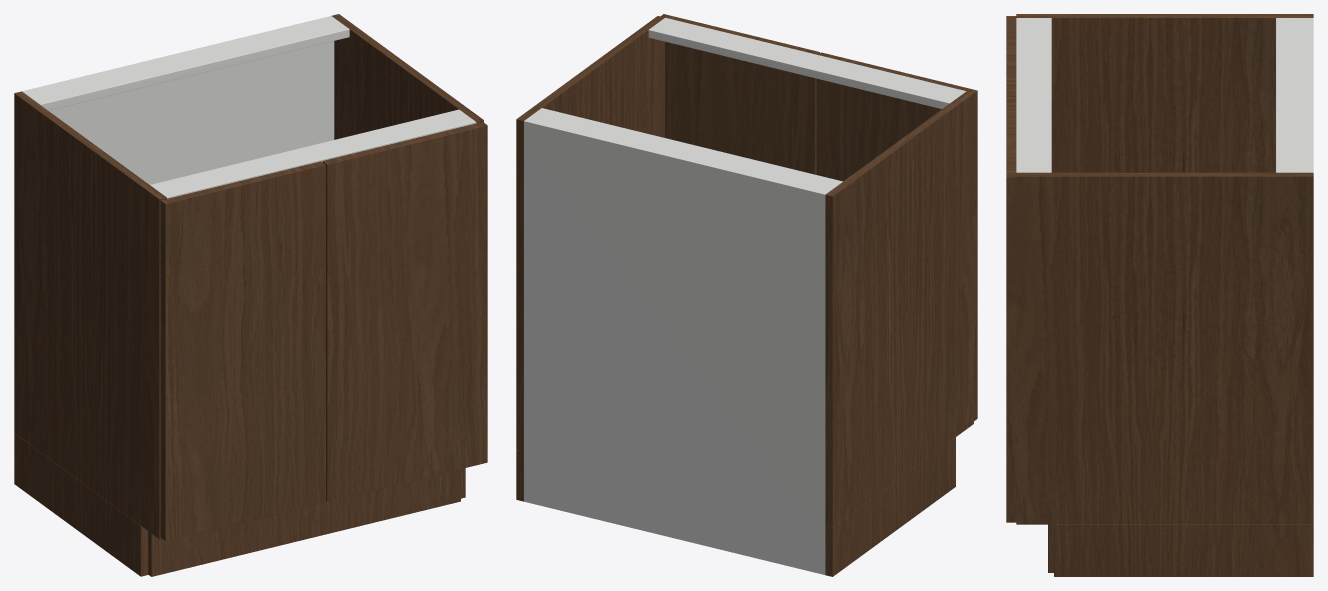
File: bvc-1358.glb
3 renders of one model, left to right at view 1: azimuth 30°, elevation 25°; view 2: azimuth 150°, elevation 25°; view 3: azimuth 270°, elevation 25°, orthographic. The views are drawn at different scales.
Parts seen in each view (by area): view 1: Door, Door.001, Cabinet side, Cabinet back, Recessed toe board, Cabinet side.001, Top support rail, Recessed side plinth, Top support rail.001; view 2: Cabinet back, Cabinet side, Door.001, Cabinet side.001, Door, Top support rail.001, Recessed side plinth, Top support rail, Cabinet bottom; view 3: Cabinet side.001, Cabinet side, Recessed side plinth.001, Top support rail.001, Top support rail, Door.001, Cabinet back, Door.
Boxes of the visible parts, x1=… form: Door: x1=160, y1=161, x2=325, y2=540; Door.001: x1=322, y1=122, x2=487, y2=501; Cabinet side: x1=14, y1=91, x2=166, y2=538; Cabinet back: x1=22, y1=16, x2=334, y2=184; Recessed toe board: x1=148, y1=469, x2=460, y2=576; Cabinet side.001: x1=332, y1=14, x2=483, y2=139; Top support rail: x1=23, y1=18, x2=349, y2=110; Recessed side plinth: x1=14, y1=433, x2=148, y2=576; Top support rail.001: x1=150, y1=109, x2=476, y2=198; Cabinet back: x1=524, y1=119, x2=827, y2=574; Cabinet side: x1=825, y1=91, x2=973, y2=527; Door.001: x1=660, y1=14, x2=819, y2=174; Cabinet side.001: x1=516, y1=16, x2=664, y2=451; Door: x1=816, y1=52, x2=977, y2=420; Top support rail.001: x1=648, y1=17, x2=966, y2=108; Recessed side plinth: x1=825, y1=437, x2=955, y2=576; Top support rail: x1=526, y1=108, x2=842, y2=192; Cabinet bottom: x1=524, y1=444, x2=825, y2=520; Cabinet side.001: x1=1016, y1=172, x2=1313, y2=524; Cabinet side: x1=1016, y1=14, x2=1313, y2=172; Recessed side plinth.001: x1=1054, y1=524, x2=1313, y2=576; Top support rail.001: x1=1016, y1=18, x2=1051, y2=172; Top support rail: x1=1276, y1=18, x2=1310, y2=172; Door.001: x1=1006, y1=97, x2=1016, y2=522; Cabinet back: x1=1308, y1=18, x2=1313, y2=172; Door: x1=1006, y1=16, x2=1016, y2=96.
Size of the model in its own units: 0.762 by 0.8763 by 0.6096.
Materials: 2 (1 with a texture image).
